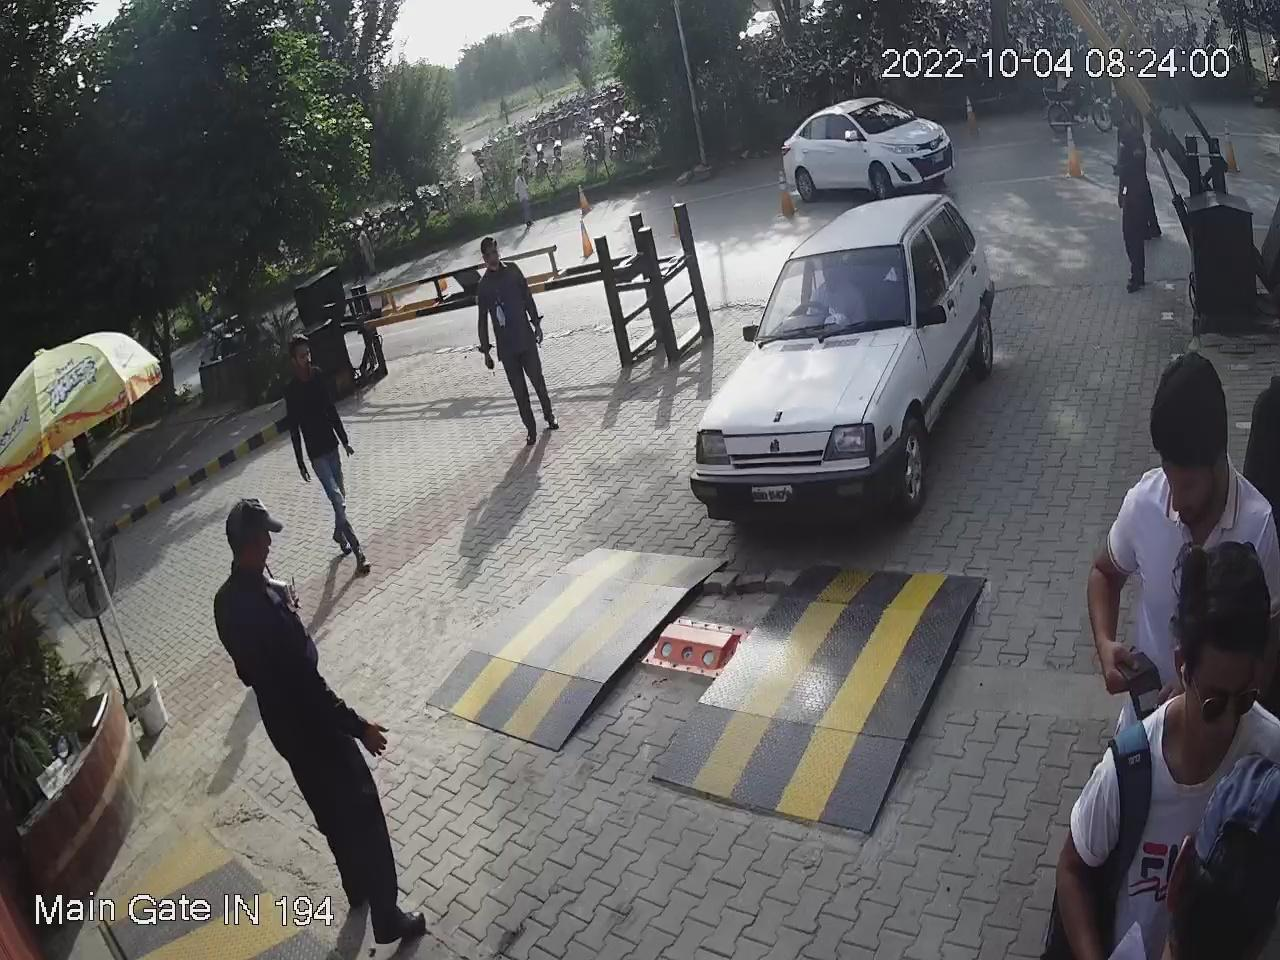windshield: (746, 242, 910, 350)
